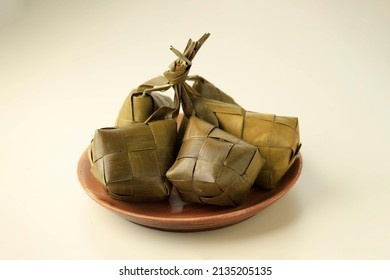ketupat: (165, 110, 266, 211), (90, 121, 176, 203)
